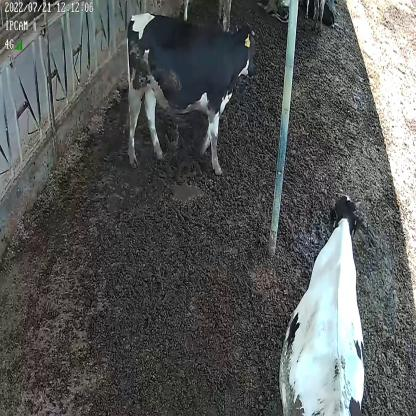cow: (122, 11, 258, 177), (278, 192, 366, 416)
